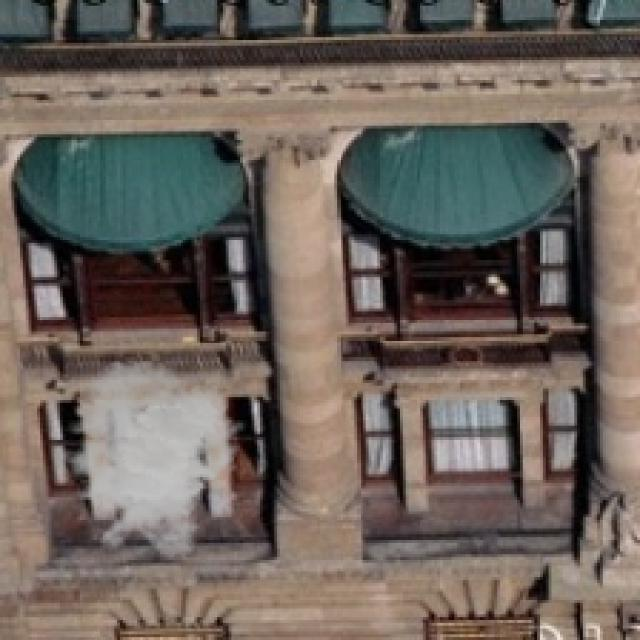smoke: (46, 357, 246, 560)
